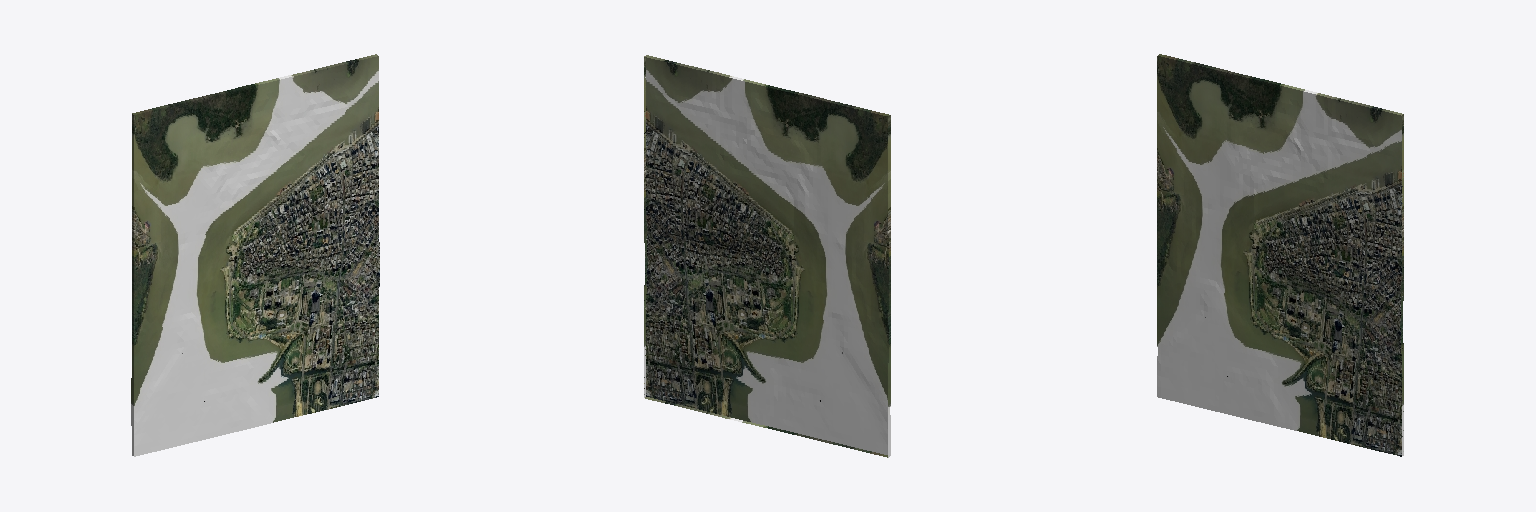
3 views of the same model, side by side, from view 1: azimuth 30°, elevation 25°; view 2: azimuth 150°, elevation 25°; view 3: azimuth 330°, elevation 25° (orthographic).
Visible parts, largest first — view 1: saida4.osg_PagedLOD_TerrainTile_MatrixTransform__Geometry_0; view 2: saida4.osg_PagedLOD_TerrainTile_MatrixTransform__Geometry_0; view 3: saida4.osg_PagedLOD_TerrainTile_MatrixTransform__Geometry_0.
Part boxes in pixels (x1,y1,x2,y2): saida4.osg_PagedLOD_TerrainTile_MatrixTransform__Geometry_0: (131,54,379,456); saida4.osg_PagedLOD_TerrainTile_MatrixTransform__Geometry_0: (644,55,890,457); saida4.osg_PagedLOD_TerrainTile_MatrixTransform__Geometry_0: (1157,54,1403,456).
Size of the model in its own units: 2820 by 3760 by 89.56.
Materials: 1 (1 with a texture image).